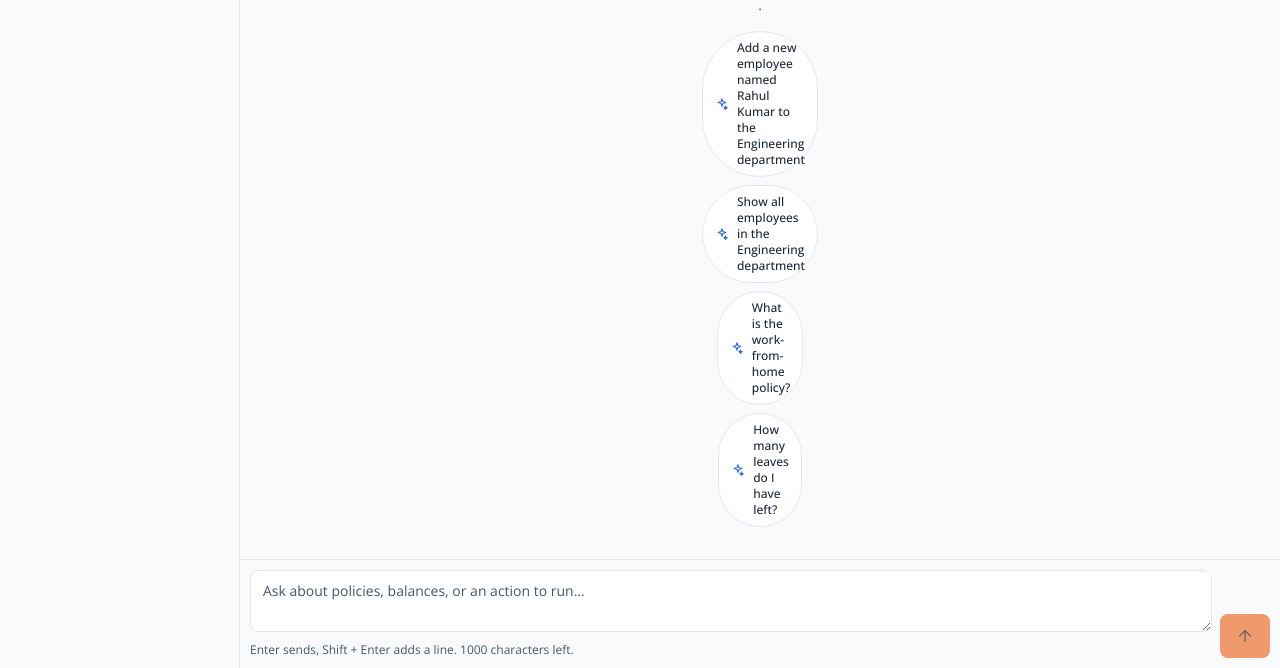
Scenario: AI chat panel — PROJECT.md §17 scenarios › §17.3 collects missing fields, then asks HR to confirm before creating
The width and height of the screenshot is (1280, 668).
(page scrolled)
In the text box named "message the hr assistant": (731, 601) top-left (250, 570), bottom-right (1212, 632), type "Add a new employee named Rahul Kumar to the Engineering department"
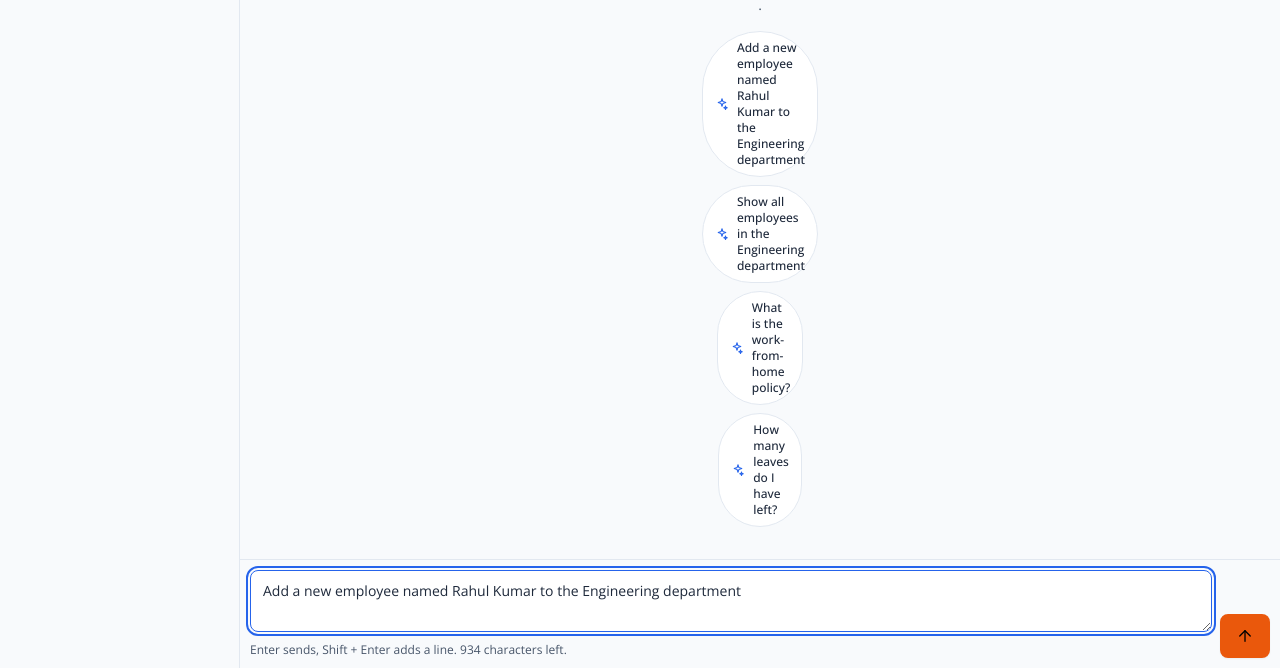
Click the button named "send message": (1245, 636) top-left (1220, 614), bottom-right (1270, 658)
(page scrolled)
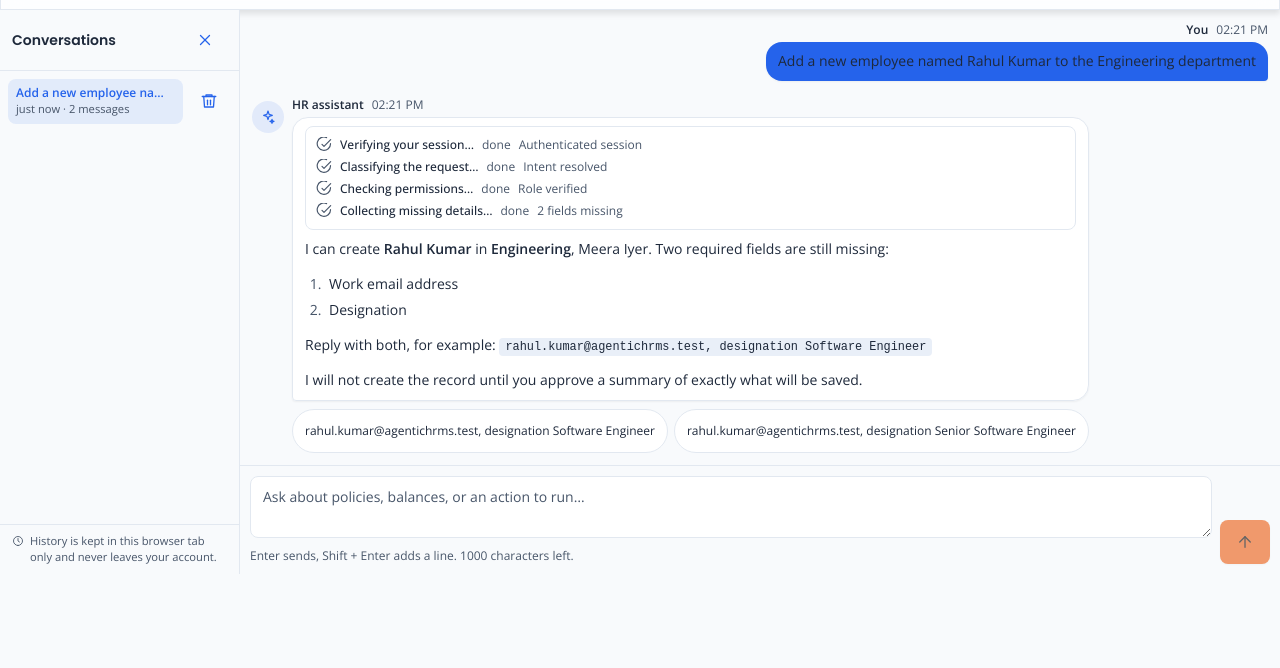
Expected: the text "two required fields are still missing" is shown, top-left (571, 239), bottom-right (889, 258)
In the text box named "message the hr assistant": (731, 507) top-left (250, 476), bottom-right (1212, 538), type "rahul.kumar@agentichrms.test, designation Software Engineer"
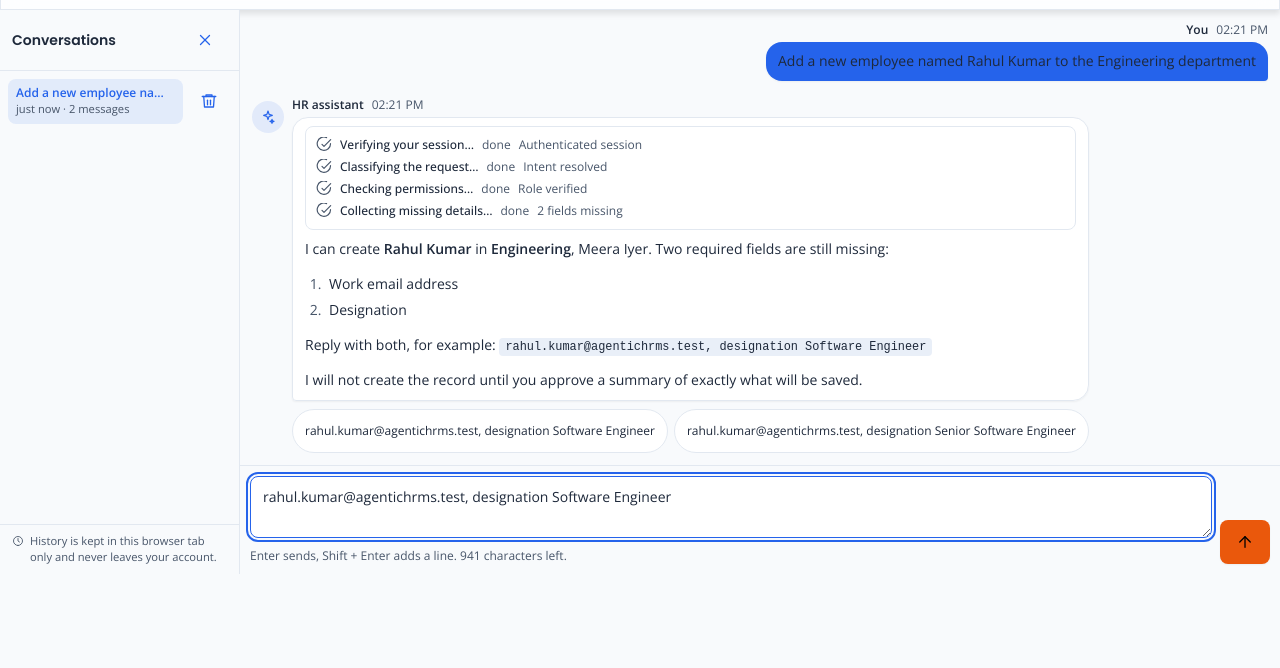
Click the button named "send message": (1245, 542) top-left (1220, 520), bottom-right (1270, 564)
(page scrolled)
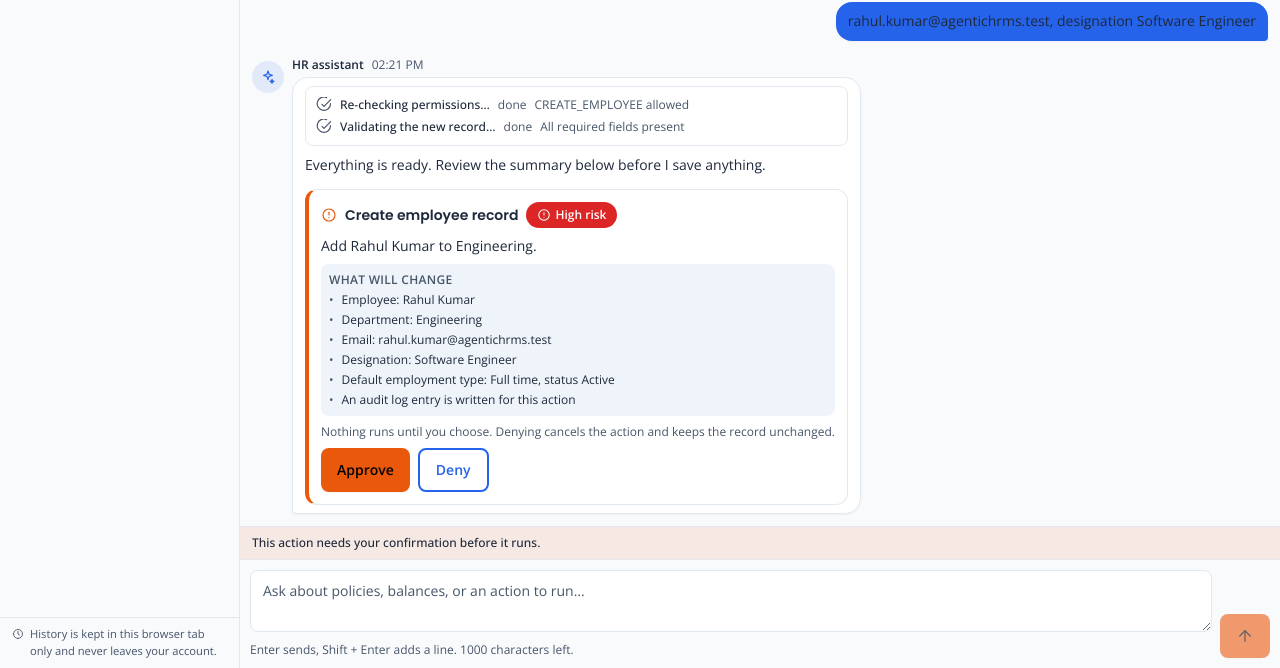
Expected: the text "Email: rahul.kumar@agentichrms.test" is shown, top-left (342, 332), bottom-right (552, 348)
Expected: the text "Designation: Software Engineer" is shown, top-left (342, 352), bottom-right (516, 368)
Click the button "Approve": (365, 470) top-left (321, 448), bottom-right (410, 492)
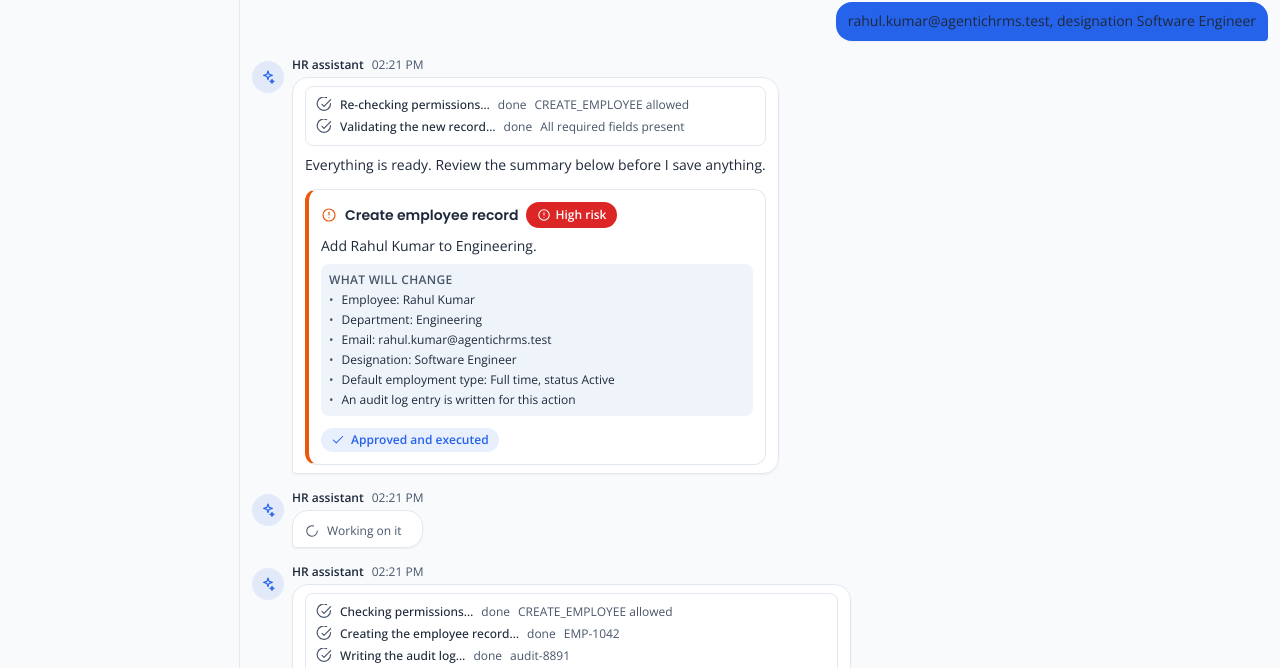
Expected: the text "Approved and executed" is shown, top-left (321, 428), bottom-right (499, 452)
